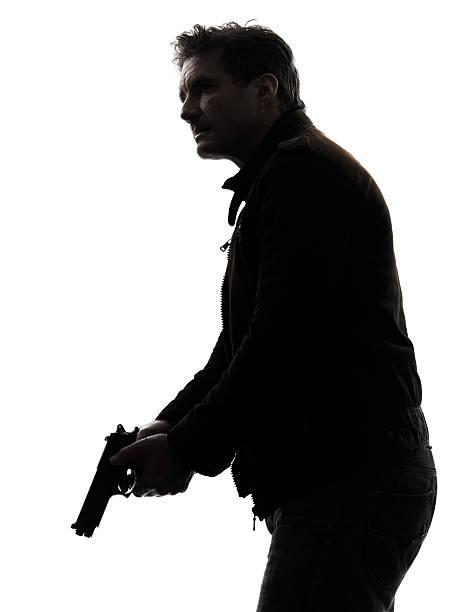weapon: (66, 411, 174, 543)
